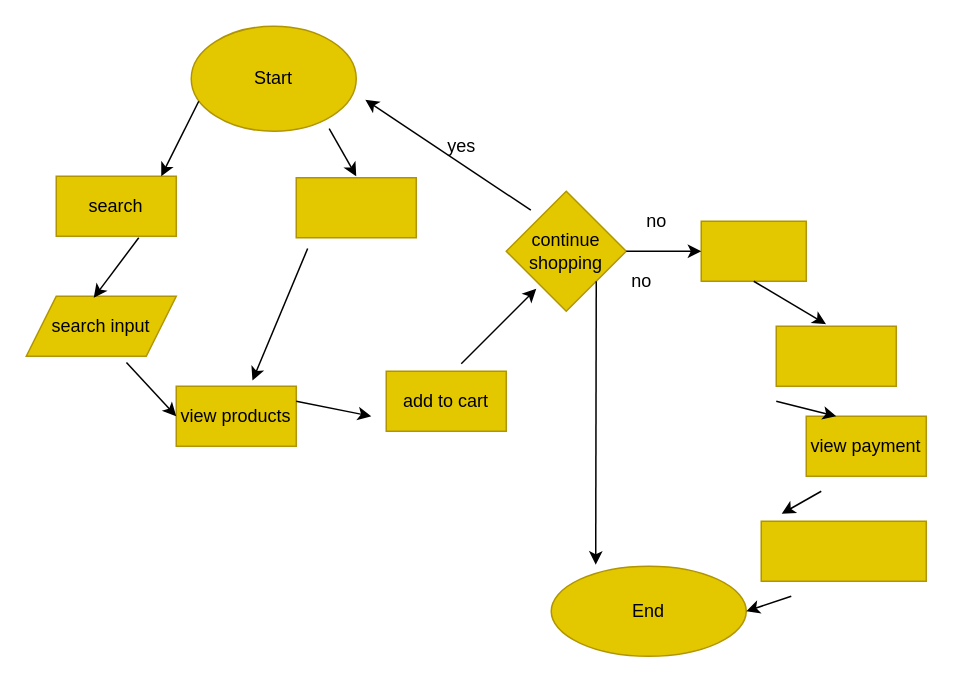
This 953x683 diagram has some shape labels left out. The shapes that lost their labels are listed below. From the top down, each one's centre as x and y in pixels, then its label:
At point 355,207: "explore".
At point 753,250: "checkout".
At point 835,355: "view cart".
At point 843,550: "order confirmation".
